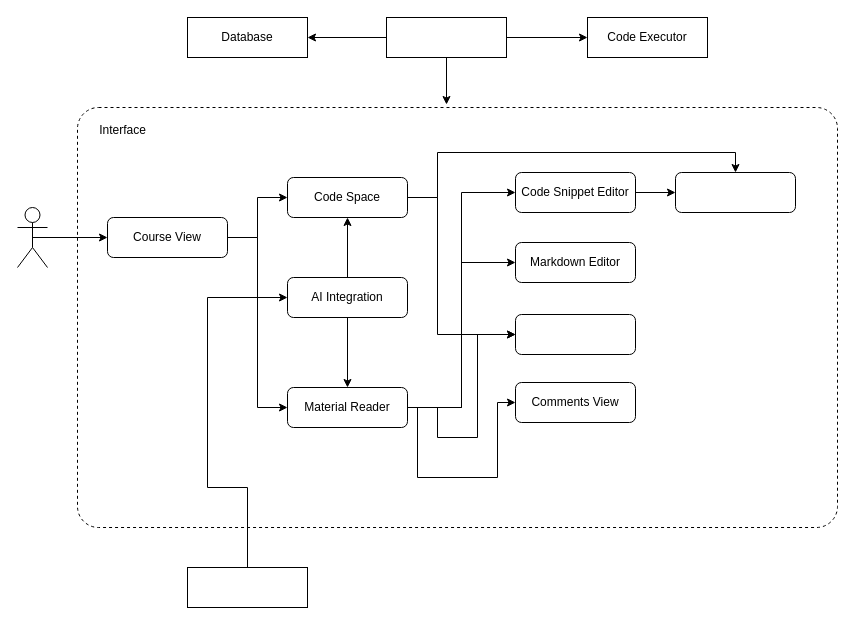
This 855x625 diagram has some shape labels left out. Here are the shapes that lost their labels. From the top down, the box of each, then its label:
(386, 16, 506, 58): Kubernetes
(674, 172, 796, 212): Code Editor
(16, 206, 48, 268): User
(514, 314, 636, 354): PDF Reader
(186, 566, 308, 608): 3rd AI Provider
